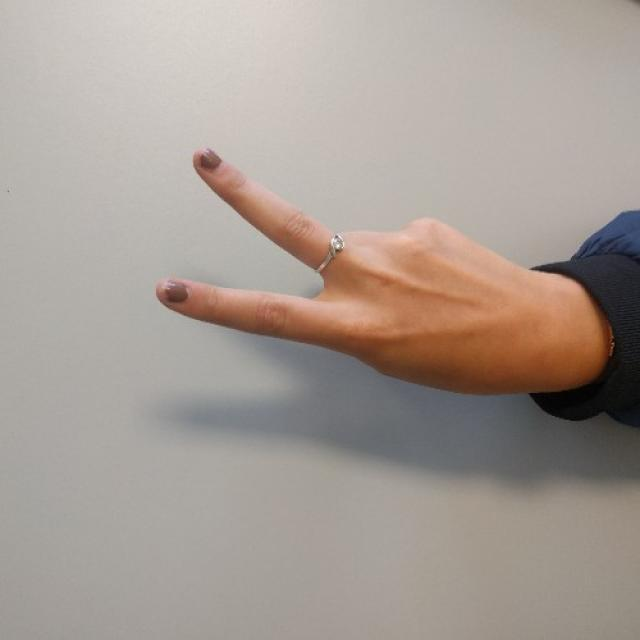scissors: (153, 143, 495, 394)
